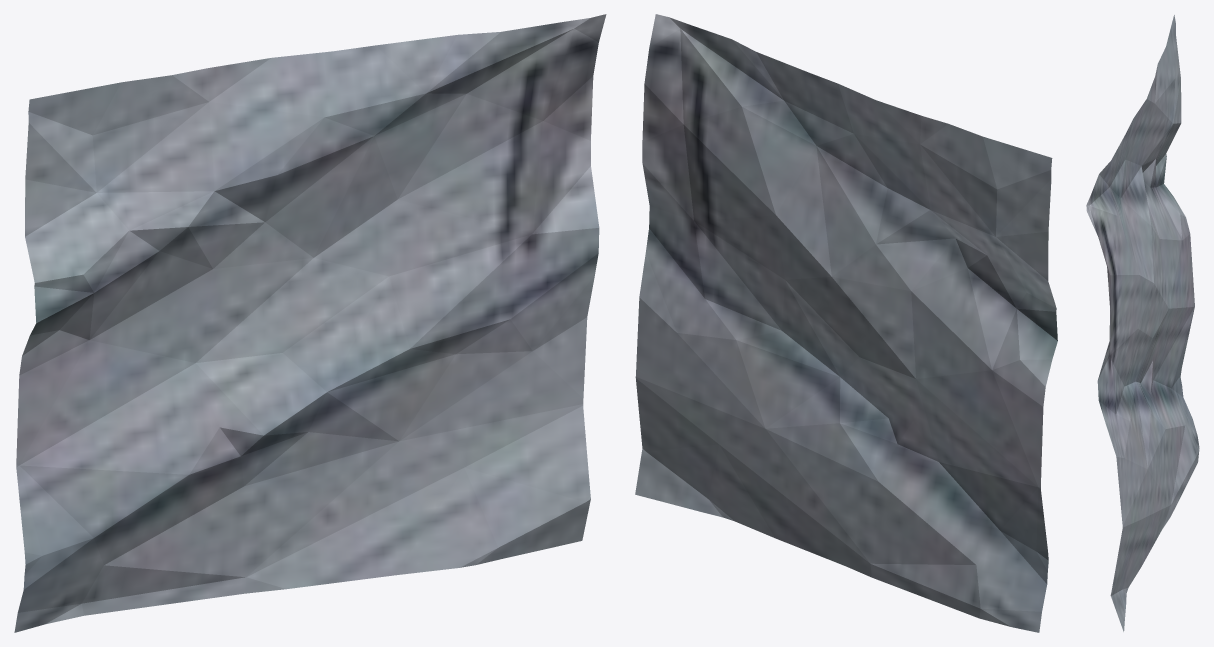
Rendered from Tile_+003_+008_L24_0030101.obj.
3 renders of one model, left to right at view 1: azimuth 30°, elevation 25°; view 2: azimuth 150°, elevation 25°; view 3: azimuth 270°, elevation 25°, orthographic. The views are drawn at different scales.
Size of the model in its own units: 0.9531 by 0.9531 by 0.2313.
Materials: 1 (1 with a texture image).
